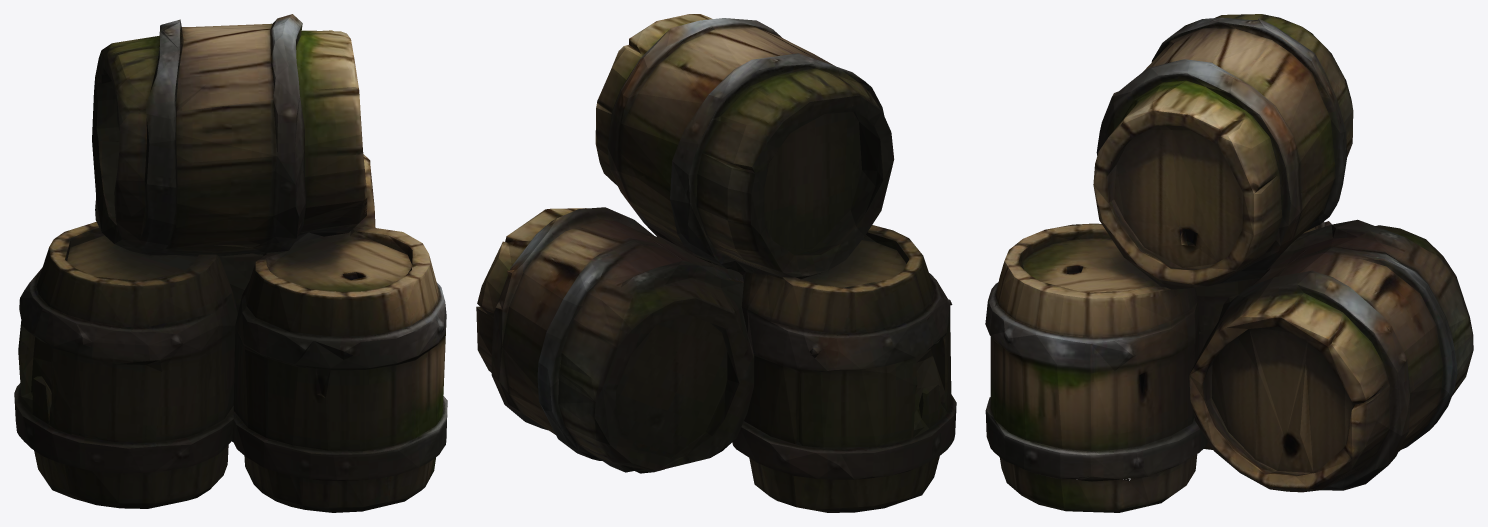
The model's file is barrels_stack.glb.
The picture shows the model from 3 angles, left to right: view 1: azimuth 30°, elevation 25°; view 2: azimuth 150°, elevation 25°; view 3: azimuth 270°, elevation 25°; orthographic projection.
Visible parts, largest first — view 1: world; view 2: world; view 3: world.
Part boxes in pixels (left/top/right/bottom): world: left=14, top=14, right=447, bottom=512; world: left=476, top=14, right=956, bottom=512; world: left=985, top=14, right=1473, bottom=512.
Bounding box in the file's own units: 0.5733 × 0.585 × 0.6156.
1 material, 1 textured.
